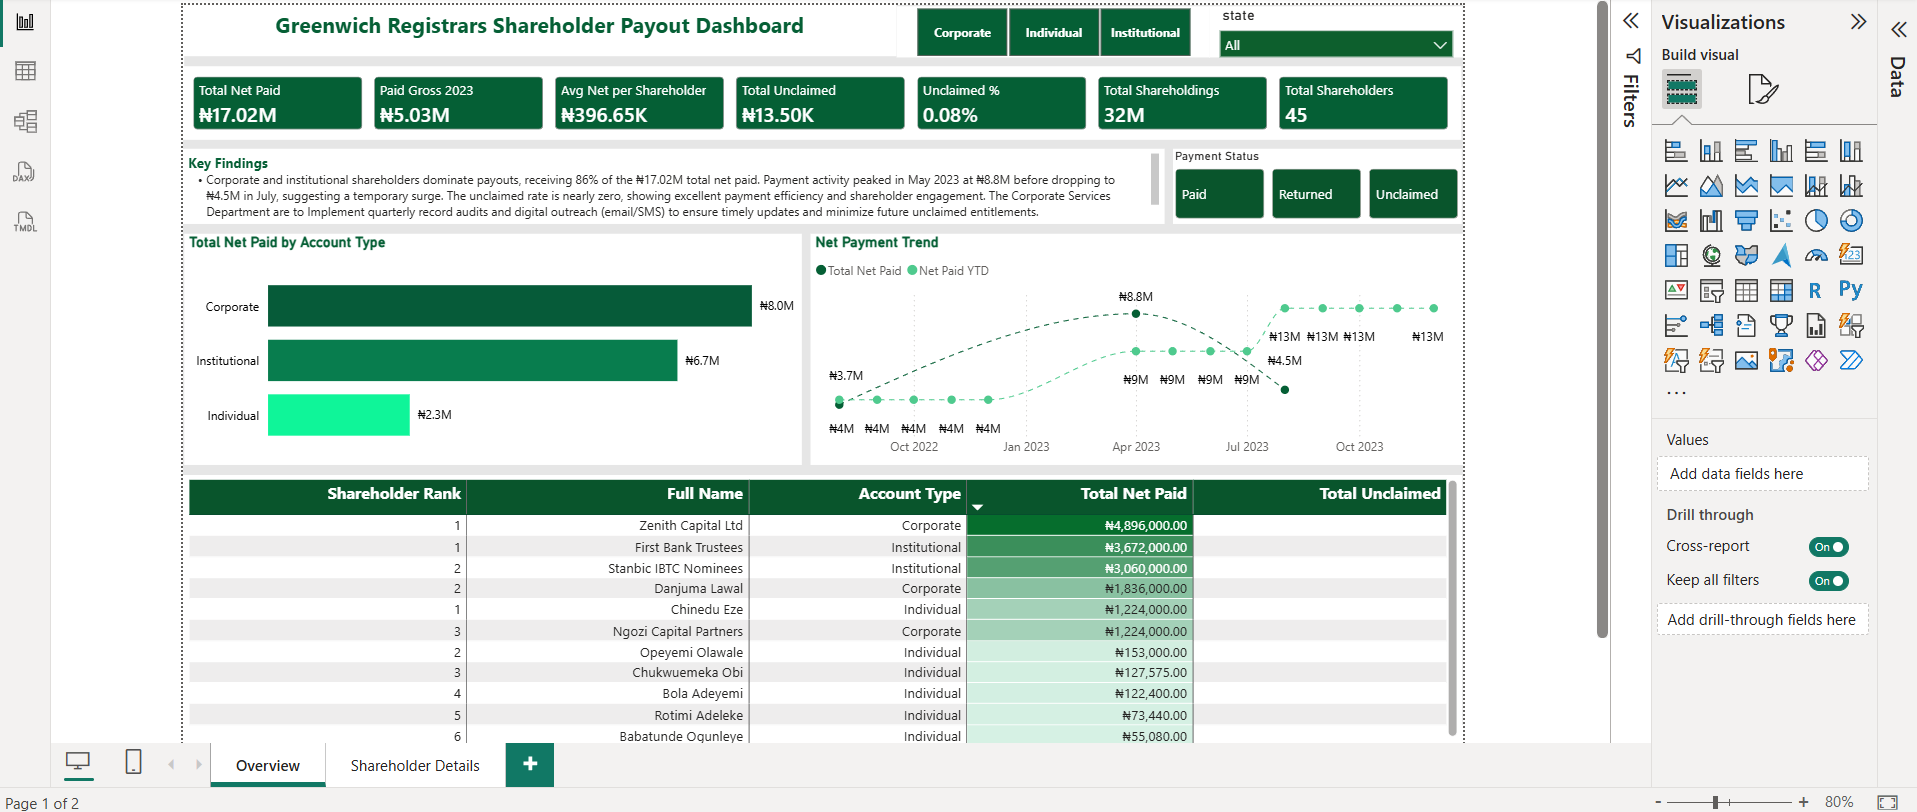

This screenshot's page, from the dashboard's own definition file:
{"tool":"powerbi","page":{"name":"Overview","canvas":[1280,860],"ordinal":0},"visuals":[{"type":"shape","box":[1.9,0,1397.4,82.2],"z":0},{"type":"shape","box":[0,90,1398.8,630],"z":1000},{"type":"cardVisual","fields":{"Data":["DAX.Total Net Paid","DAX.Paid Gross 2023","DAX.Average Net per Shareholder","DAX.Total Unclaimed","DAX.Unclaimed %","DAX.Total Shareholdings","DAX.Total Shareholders"]},"box":[0,61.2,1278.8,73.8],"z":2000},{"type":"textbox","box":[0,143.8,981.2,75],"z":3000},{"type":"slicer","fields":{"Values":["greenwich_db shareholders.account_type"]},"box":[713.8,1.2,312.5,51.2],"z":4000},{"type":"textbox","box":[0,0,713.8,51.2],"z":5000},{"type":"clusteredBarChart","title":"Total Net Paid by Account Type","fields":{"Category":["greenwich_db shareholders.account_type"],"Y":["DAX.Total Net Paid"]},"box":[1.2,228.8,617.5,231.2],"z":6000},{"type":"lineChart","title":"Net Payment Trend","fields":{"Y":["DAX.Total Net Paid"],"Y2":["DAX.Net Paid YTD"],"Category":["Date.Date.Variation.Date Hierarchy.Year","Date.Date.Variation.Date Hierarchy.Month"]},"box":[627.5,228.8,652.5,231.2],"z":7000},{"type":"tableEx","fields":{"Values":["DAX.Shareholder Rank","greenwich_db shareholders.full_name","greenwich_db shareholders.account_type","DAX.Total Net Paid","DAX.Total Unclaimed"]},"box":[0,470,1279,520],"z":8000},{"type":"advancedSlicerVisual","title":"Payment Status","fields":{"Values":["greenwich_db dividend_payments.payment_status"]},"box":[990,143.8,288.8,75],"z":9000},{"type":"slicer","fields":{"Values":["greenwich_db shareholders.state"]},"box":[1026.2,1.2,253.8,51.2],"z":10000}]}

Visuals, with their boxes on the page's 1280x860 design canvas (x1, y1, x2, y2). These are canvas units, not pixel positions in the 1917x812 screenshot, which may show the page scaled, cropped or inside an application window:
shape: crop(2, 0, 1399, 82)
shape: crop(0, 90, 1399, 720)
cardVisual - DAX.Total Net Paid x DAX.Paid Gross 2023: crop(0, 61, 1279, 135)
textbox: crop(0, 144, 981, 219)
slicer - greenwich_db shareholders.account_type: crop(714, 1, 1026, 52)
textbox: crop(0, 0, 714, 51)
"Total Net Paid by Account Type" clusteredBarChart: crop(1, 229, 619, 460)
"Net Payment Trend" lineChart: crop(628, 229, 1280, 460)
tableEx - DAX.Shareholder Rank x greenwich_db shareholders.full_name: crop(0, 470, 1279, 990)
"Payment Status" advancedSlicerVisual: crop(990, 144, 1279, 219)
slicer - greenwich_db shareholders.state: crop(1026, 1, 1280, 52)
